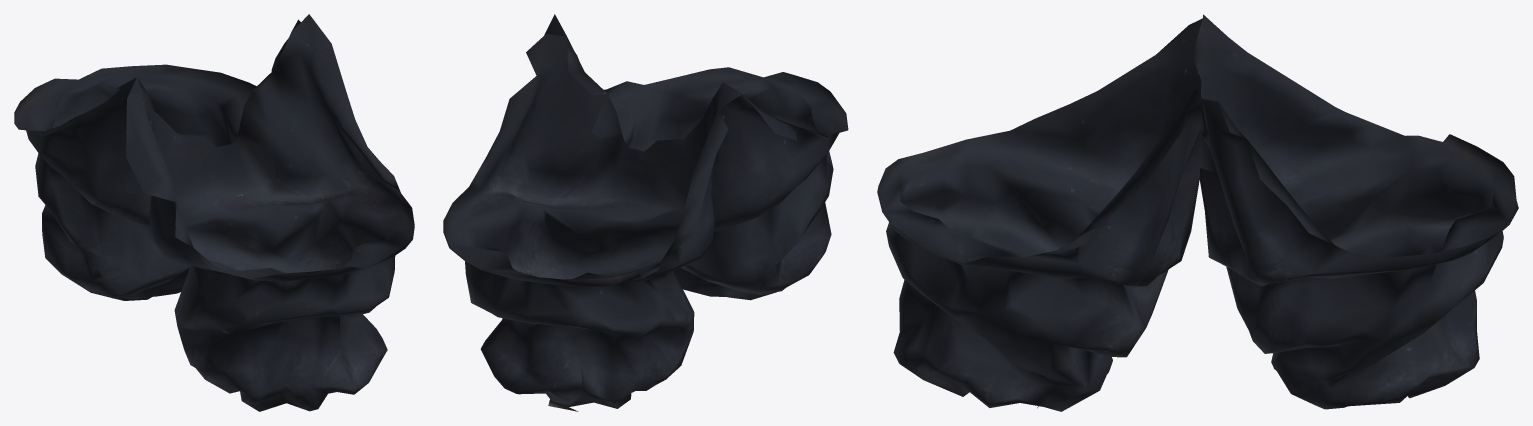
File: pants.glb
3 views of the same model, side by side, from view 1: azimuth 30°, elevation 25°; view 2: azimuth 150°, elevation 25°; view 3: azimuth 270°, elevation 25° (orthographic). The views are drawn at different scales.
Visible parts, largest first — view 1: pants; view 2: pants; view 3: pants.
Boxes of the visible parts, x1,y1,x2,y2 form: pants: [14, 14, 414, 411]; pants: [443, 14, 848, 411]; pants: [877, 14, 1518, 411].
Size of the model in its own units: 0.1962 by 0.2402 by 0.3975.
2 materials, 2 textured.
